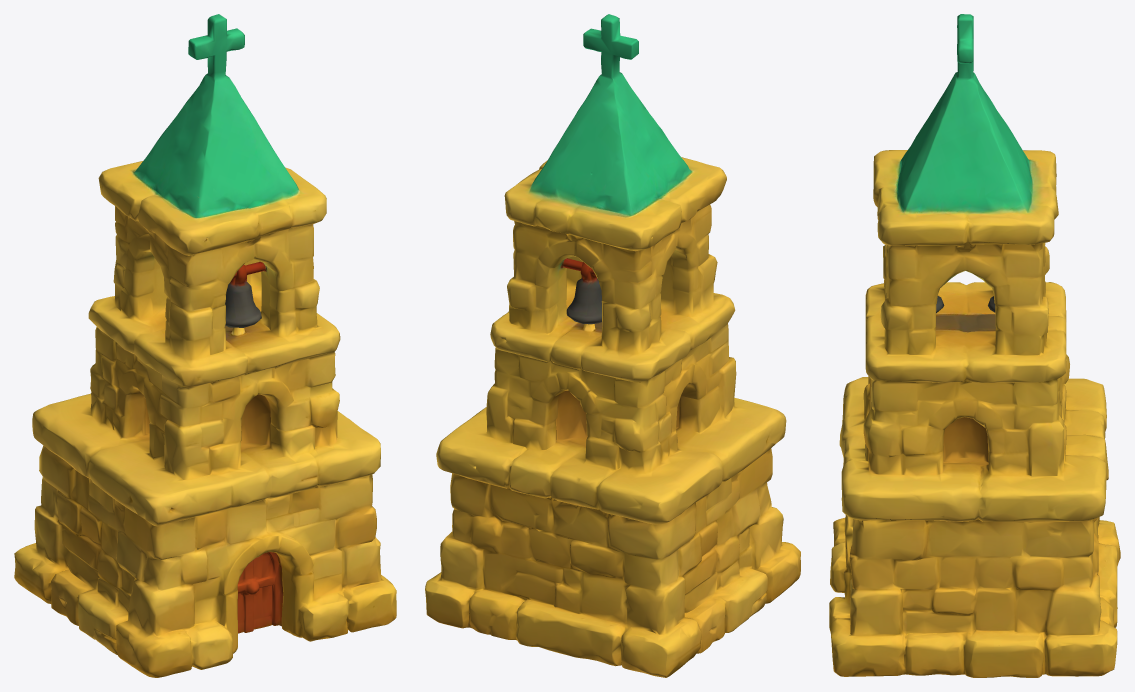
Rendered from church_tower.glb.
The picture shows the model from 3 angles, left to right: view 1: azimuth 30°, elevation 25°; view 2: azimuth 150°, elevation 25°; view 3: azimuth 270°, elevation 25°; orthographic projection. The views are drawn at different scales.
Parts seen in each view (by area): view 1: tripo_node_0e6ce4cd-cf08-438a-8fde-272834755f16; view 2: tripo_node_0e6ce4cd-cf08-438a-8fde-272834755f16; view 3: tripo_node_0e6ce4cd-cf08-438a-8fde-272834755f16.
Part boxes in pixels (left/top/right/bottom): tripo_node_0e6ce4cd-cf08-438a-8fde-272834755f16: left=14, top=14, right=396, bottom=677; tripo_node_0e6ce4cd-cf08-438a-8fde-272834755f16: left=425, top=14, right=800, bottom=677; tripo_node_0e6ce4cd-cf08-438a-8fde-272834755f16: left=829, top=14, right=1120, bottom=677.
Bounding box in the file's own units: 0.4607 × 1 × 0.438.
Materials: 1 (1 with a texture image).
